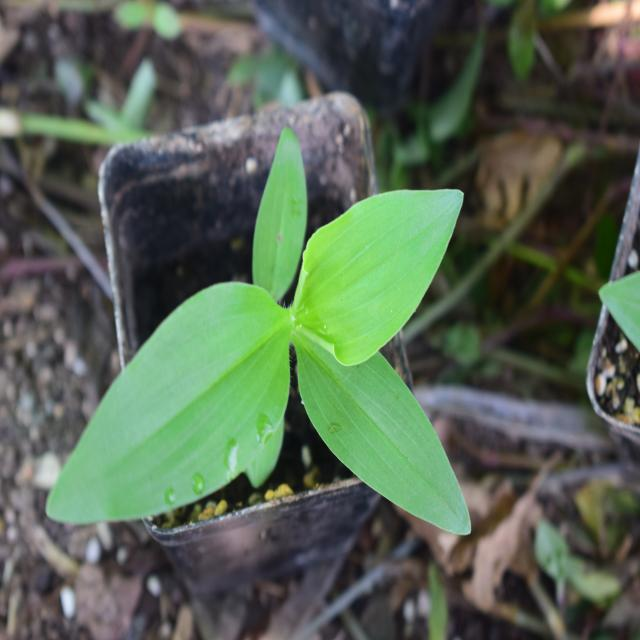Common Dayflower: (68, 176, 512, 561)
